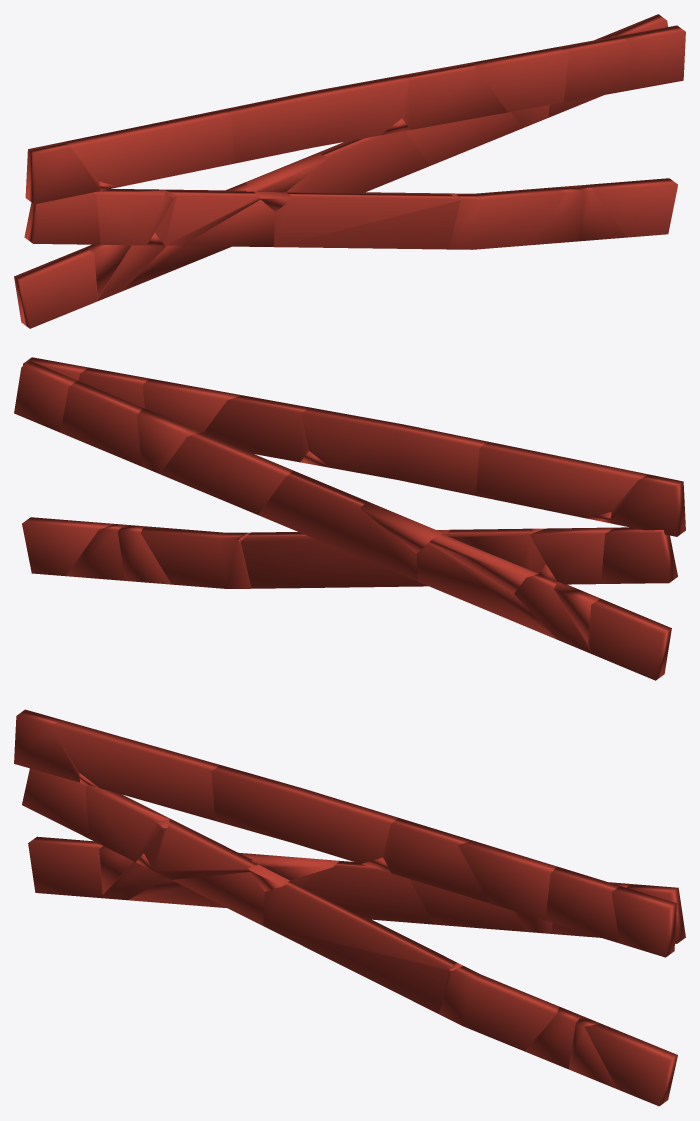
Rendered from road_block_fractured.fbx.
3 views of the same model, one above another, from view 1: azimuth 30°, elevation 25°; view 2: azimuth 150°, elevation 25°; view 3: azimuth 330°, elevation 25° (orthographic).
Visible parts, largest first — view 1: road_block_fracturepart16_3, road_block_fracturepart4, road_block_fracturepart11, road_block_fracturepart10, road_block_fracturepart16_2, road_block_fracturepart12, road_block_fracturepart7_2, road_block_fracturepart6, road_block_fracturepart14, road_block_fracturepart1, road_block_fracturepart8_3, road_block_fracturepart2_2 (+13 smaller); view 2: road_block_fracturepart4, road_block_fracturepart11, road_block_fracturepart16_2, road_block_fracturepart16_3, road_block_fracturepart12_2, road_block_fracturepart10, road_block_fracturepart12, road_block_fracturepart7_2, road_block_fracturepart14_2, road_block_fracturepart5, road_block_fracturepart7_3, road_block_fracturepart8_3 (+14 smaller); view 3: road_block_fracturepart16_3, road_block_fracturepart4, road_block_fracturepart11, road_block_fracturepart10, road_block_fracturepart16_2, road_block_fracturepart12, road_block_fracturepart6, road_block_fracturepart1, road_block_fracturepart2_2, road_block_fracturepart7_2, road_block_fracturepart14, road_block_fracturepart8_3 (+13 smaller).
Boxes of the visible parts, box(x1,y1,x2,y2) form: road_block_fracturepart16_3: box(273, 192, 459, 249); road_block_fracturepart4: box(222, 75, 409, 163); road_block_fracturepart11: box(65, 109, 234, 186); road_block_fracturepart10: box(448, 187, 564, 249); road_block_fracturepart16_2: box(286, 131, 429, 193); road_block_fracturepart12: box(400, 62, 507, 129); road_block_fracturepart7_2: box(14, 247, 97, 328); road_block_fracturepart6: box(474, 47, 568, 112); road_block_fracturepart14: box(558, 35, 637, 102); road_block_fracturepart1: box(592, 178, 677, 237); road_block_fracturepart8_3: box(93, 189, 173, 245); road_block_fracturepart2_2: box(155, 189, 260, 245); road_block_fracturepart4: box(301, 407, 487, 495); road_block_fracturepart11: box(476, 441, 648, 518); road_block_fracturepart16_2: box(258, 470, 417, 581); road_block_fracturepart16_3: box(241, 532, 426, 588); road_block_fracturepart12_2: box(160, 432, 293, 514); road_block_fracturepart10: box(140, 526, 251, 588); road_block_fracturepart12: box(203, 395, 308, 462); road_block_fracturepart7_2: box(588, 598, 671, 680); road_block_fracturepart14_2: box(60, 380, 142, 466); road_block_fracturepart5: box(416, 543, 557, 639); road_block_fracturepart7_3: box(601, 527, 677, 583); road_block_fracturepart8_3: box(530, 527, 613, 584); road_block_fracturepart16_3: box(263, 880, 456, 1013); road_block_fracturepart4: box(211, 765, 398, 863); road_block_fracturepart11: box(51, 720, 219, 820); road_block_fracturepart10: box(439, 966, 559, 1051); road_block_fracturepart16_2: box(290, 861, 433, 924); road_block_fracturepart12: box(383, 818, 489, 903); road_block_fracturepart6: box(458, 840, 556, 920); road_block_fracturepart1: box(584, 1023, 677, 1106); road_block_fracturepart2_2: box(144, 818, 257, 879); road_block_fracturepart7_2: box(28, 836, 102, 898); road_block_fracturepart14: box(545, 866, 619, 943); road_block_fracturepart8_3: box(85, 785, 169, 861).
Size of the model in its own units: 1047 by 364 by 60.32.
